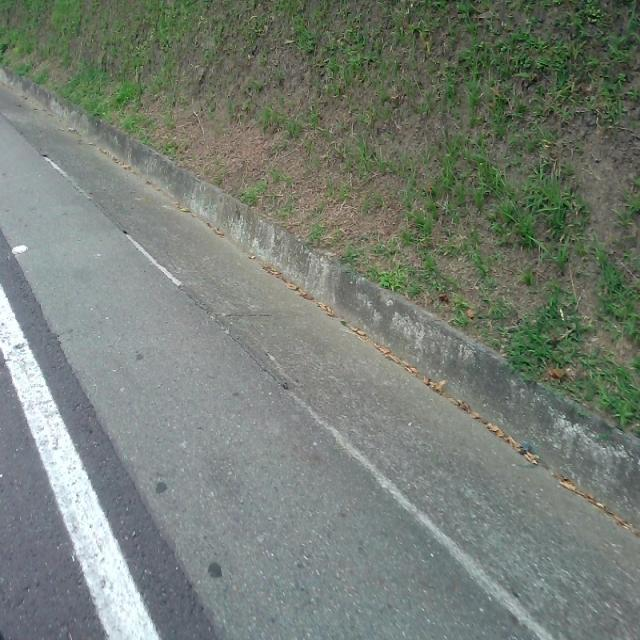DITCH: (2, 2, 638, 637), (6, 13, 636, 638), (1, 71, 638, 638)
